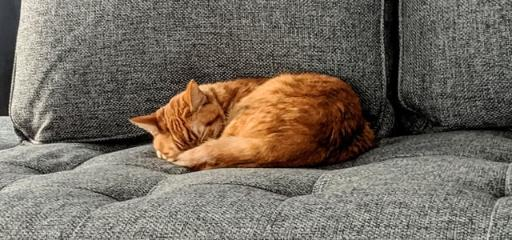cat_sleeping: (130, 73, 374, 170)
